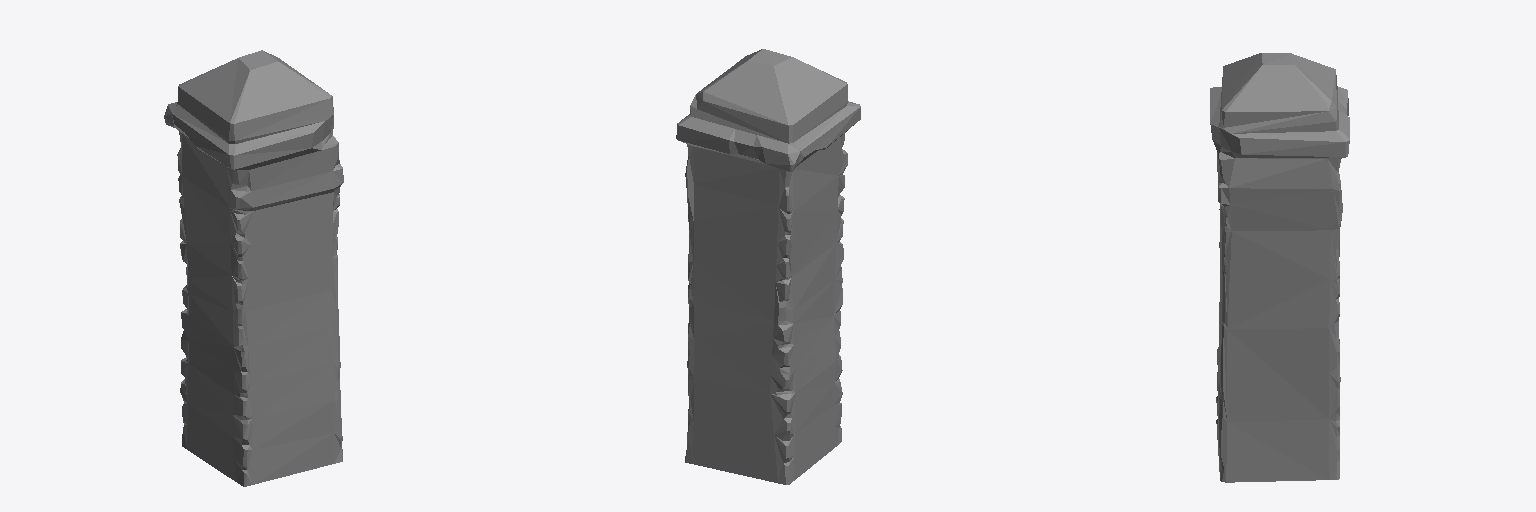
Rendered from Column.obj.
3 views of the same model, side by side, from view 1: azimuth 30°, elevation 25°; view 2: azimuth 150°, elevation 25°; view 3: azimuth 270°, elevation 25° (orthographic).
Parts seen in each view (by area): view 1: column; view 2: column; view 3: column.
Boxes of the visible parts, x1,y1,x2,y2 form: column: [164, 50, 343, 486]; column: [676, 49, 860, 484]; column: [1210, 53, 1349, 482].
Size of the model in its own units: 0.8269 by 2.62 by 0.8416.